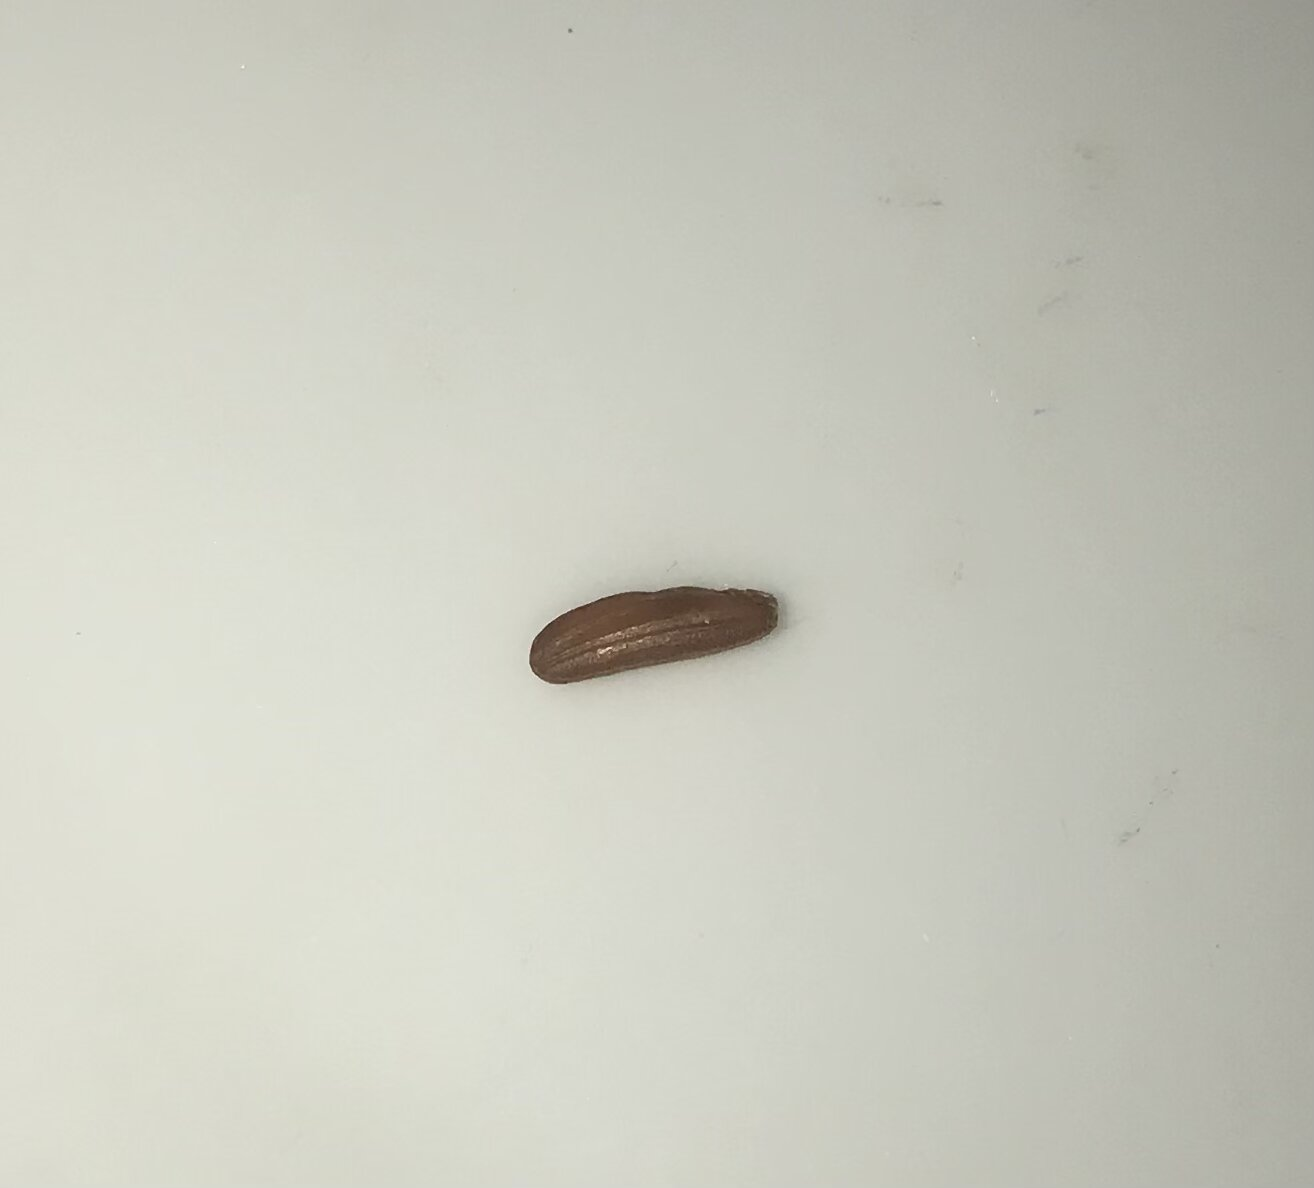Gao Huyet Rong: (529, 575, 784, 683)
